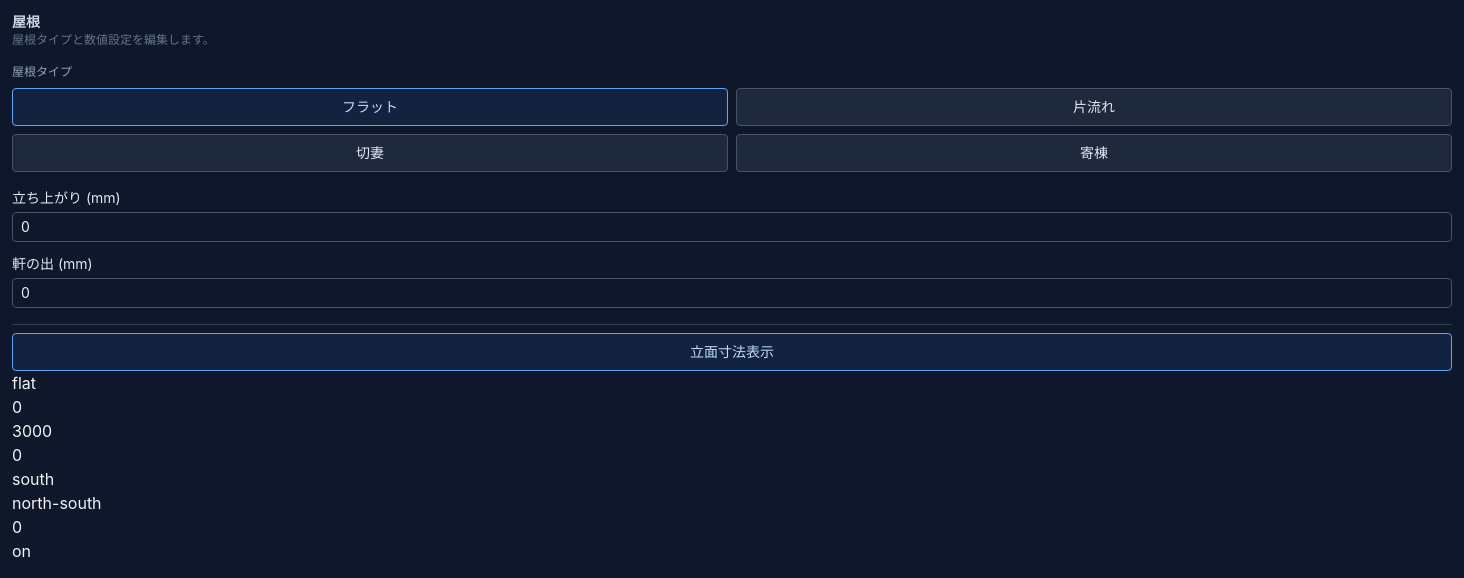
Scenario: RoofSidebarSection › toggles elevation dimension visibility
The width and height of the screenshot is (1464, 578).
Expected: the text with test id "dimension-toggle" reads "on", [12, 541, 31, 561]
Click the button "立面寸法表示" at {"x": 732, "y": 352}, box [12, 333, 1452, 371]
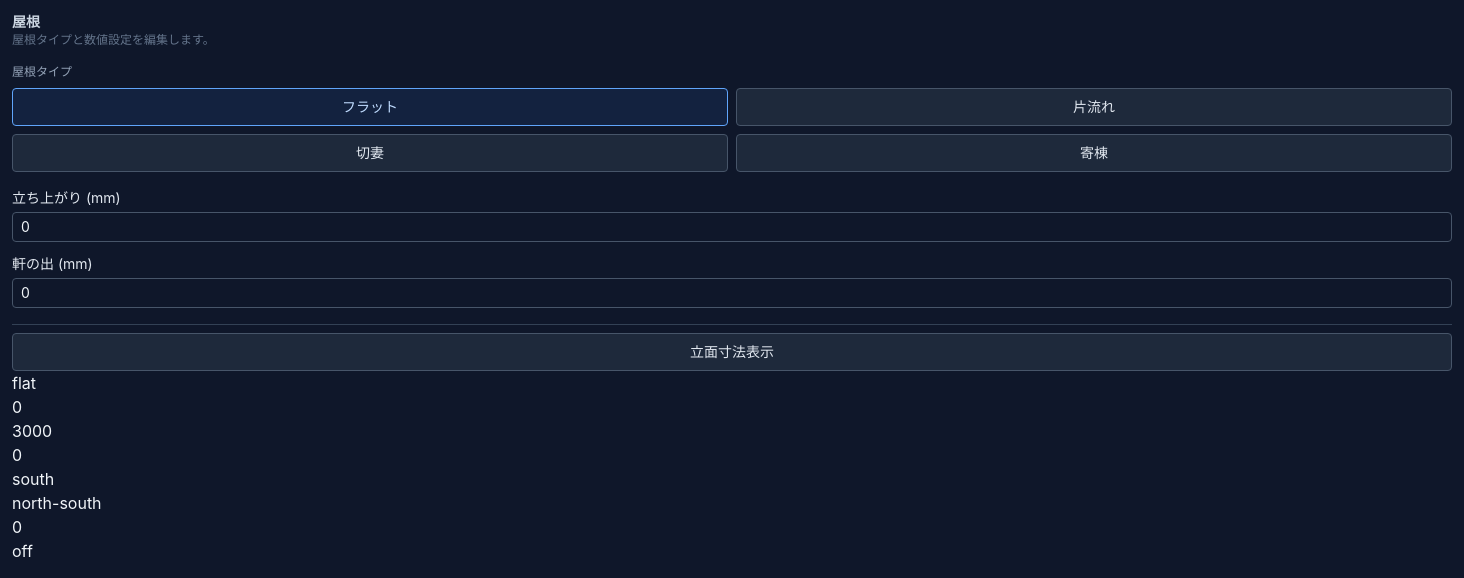
Now the text with test id "dimension-toggle" reads "off", box [12, 541, 33, 561]
